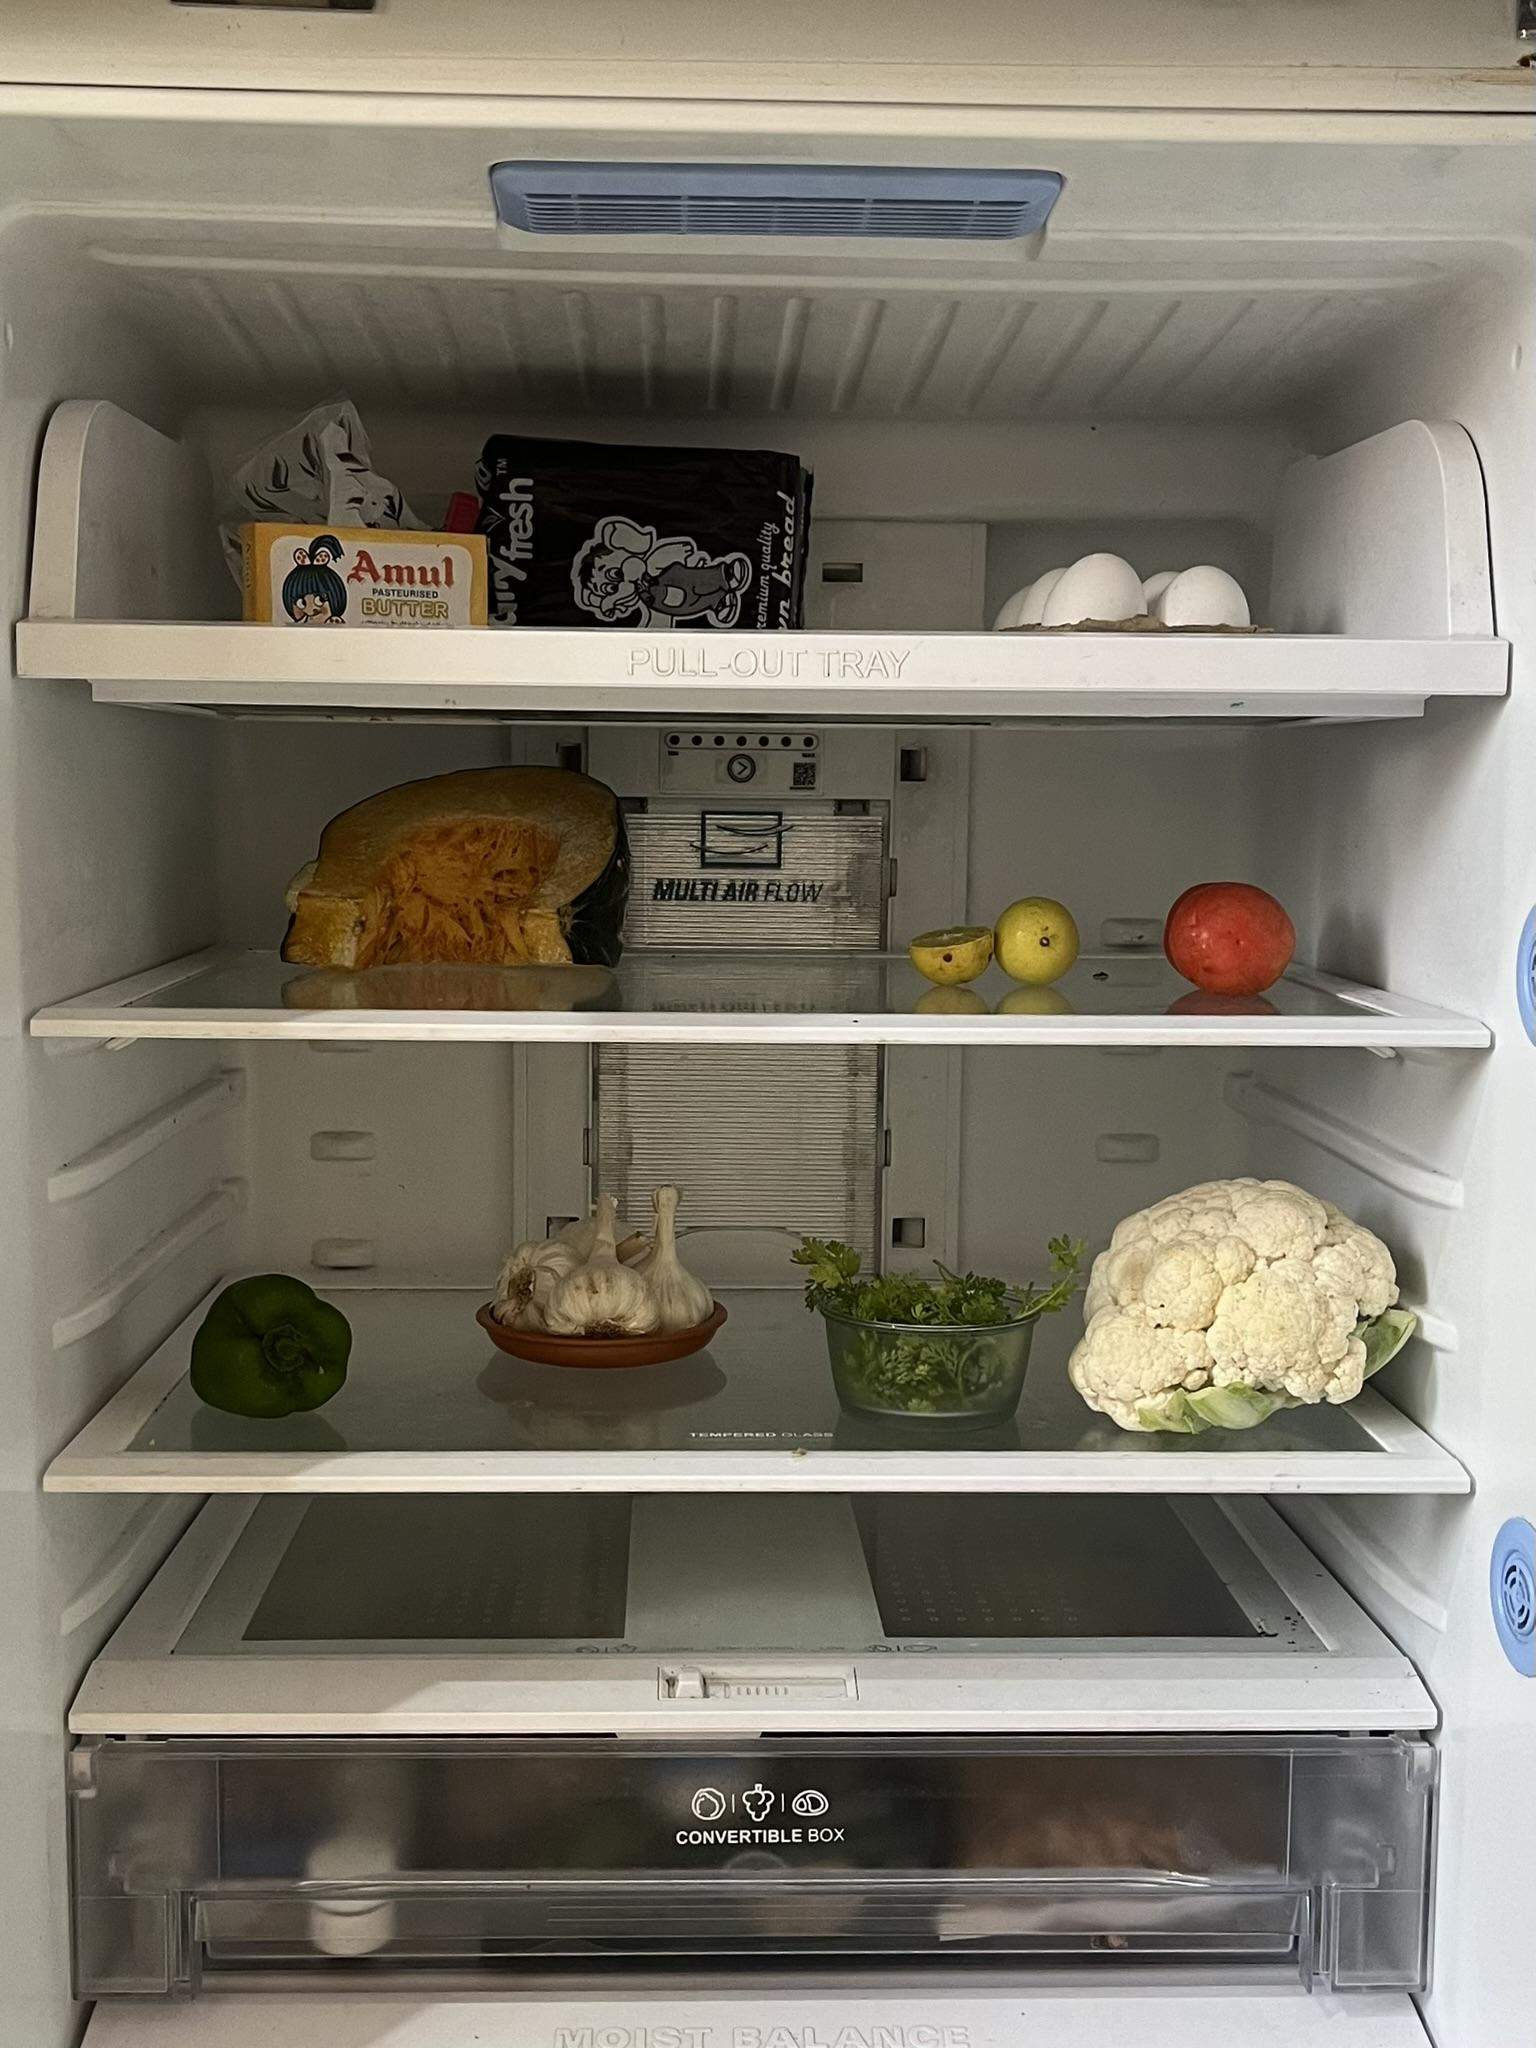bread: (231, 403, 797, 643)
butter: (226, 527, 487, 634)
capsicum: (184, 1271, 349, 1427)
cauliflower: (1071, 1164, 1405, 1448)
coriander: (812, 1221, 1026, 1417)
egg: (994, 553, 1257, 627)
garlic: (499, 1198, 715, 1342)
lemon: (912, 889, 1075, 976)
pumpkin: (284, 761, 631, 971)
tomato: (1165, 874, 1292, 990)
